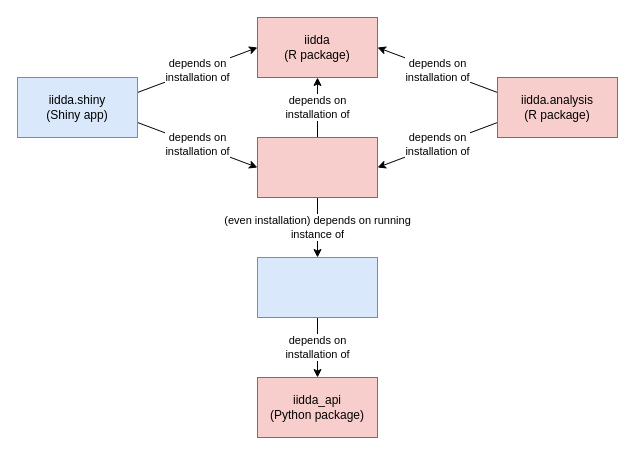
Image size: 635x455. Some labels were removed from this diagram. The centre of each missing label's shape, as x and y in pixels:
"iidda.api (R package)" goes at (317,167).
"main:app (Unvicorn app)" goes at (317,287).
